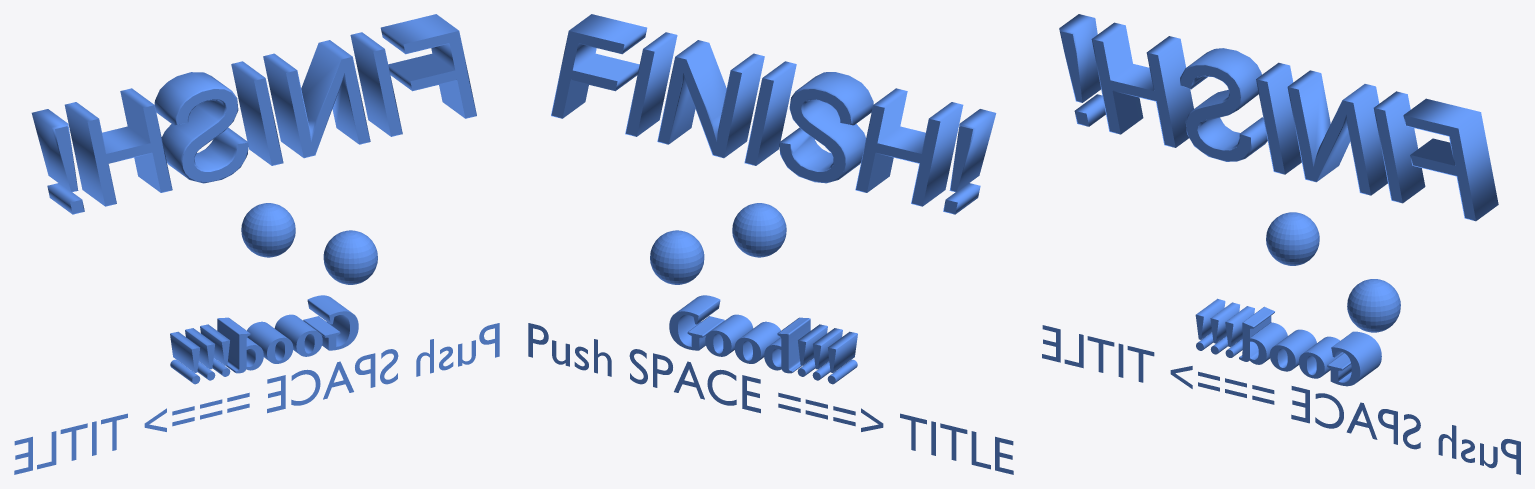
Rendered from Finish_good.obj.
3 renders of one model, left to right at view 1: azimuth 30°, elevation 25°; view 2: azimuth 150°, elevation 25°; view 3: azimuth 330°, elevation 25°, orthographic.
Visible parts, largest first — view 1: テキスト, テキスト.002, テキスト.001, 球.002, 球; view 2: テキスト, テキスト.002, テキスト.001, 球.002, 球; view 3: テキスト, テキスト.002, テキスト.001, 球, 球.002.
Part boxes in pixels (x1,y1,x2,y2): テキスト: (31, 14, 476, 214); テキスト.002: (170, 295, 358, 384); テキスト.001: (14, 323, 499, 474); 球.002: (323, 230, 377, 284); 球: (241, 203, 295, 257); テキスト: (551, 14, 996, 214); テキスト.002: (669, 295, 857, 384); テキスト.001: (528, 323, 1013, 474); 球.002: (650, 230, 704, 284); 球: (732, 203, 786, 257); テキスト: (1059, 14, 1498, 221); テキスト.002: (1195, 298, 1381, 386); テキスト.001: (1042, 325, 1520, 474); 球: (1266, 212, 1319, 265); 球.002: (1347, 279, 1400, 332).
Size of the model in its own units: 30.77 by 21.22 by 3.
5 materials, 5 textured.
